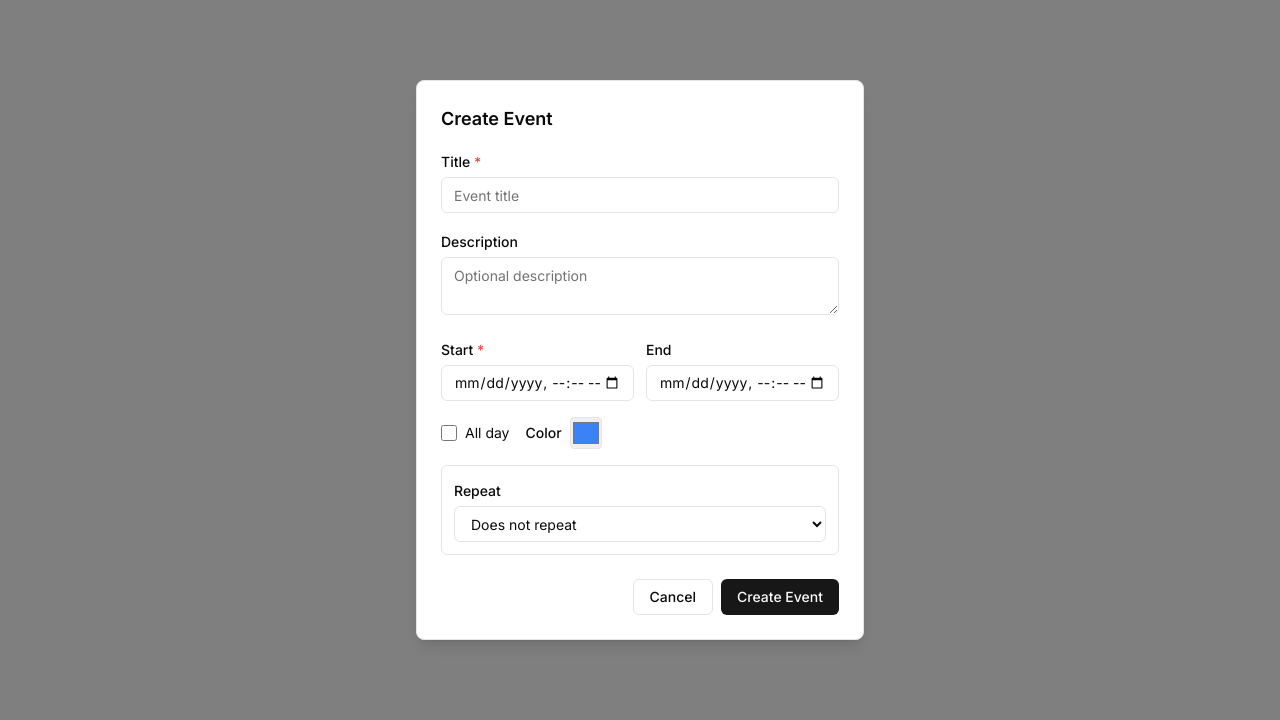
EventFormDialog › create mode › shows validation error when title is empty
Click the button "Create Event" at [780, 597], box [721, 579, 839, 615]
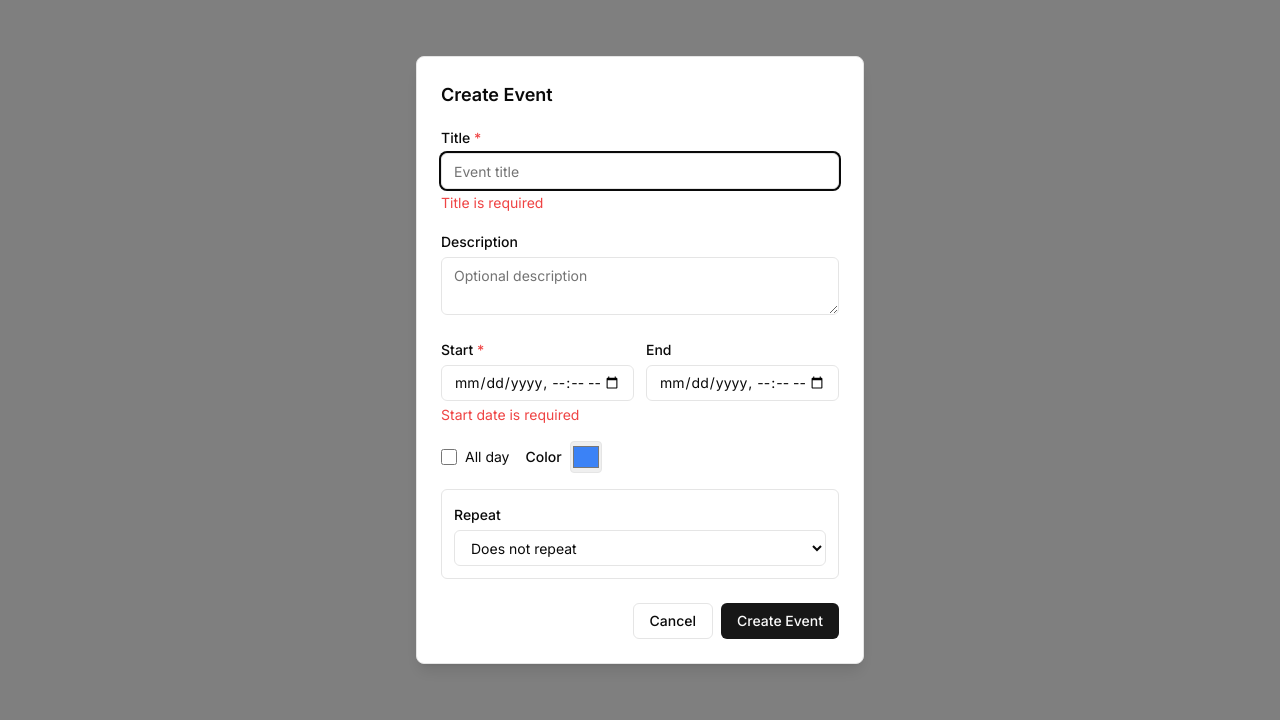
Expected: the text "Title is required" is shown, [441, 194, 543, 211]
